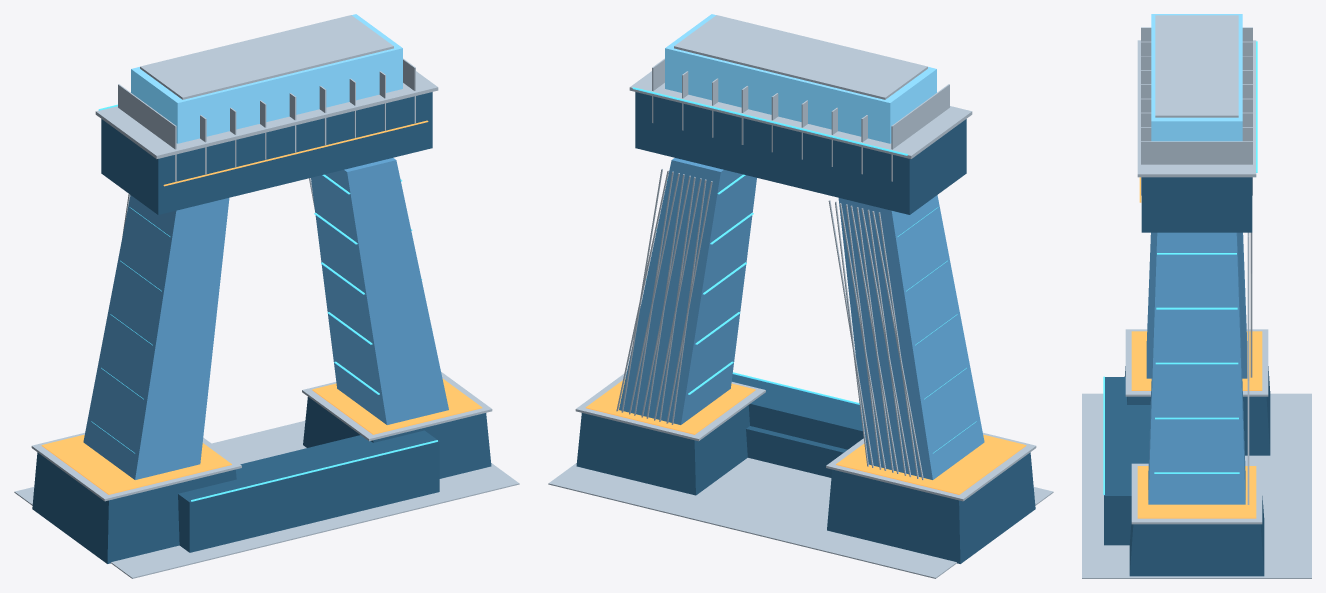
Rendered from cctv-hq.glb.
3 views of the same model, side by side, from view 1: azimuth 30°, elevation 25°; view 2: azimuth 150°, elevation 25°; view 3: azimuth 270°, elevation 25° (orthographic). The views are drawn at different scales.
Parts seen in each view (by area): view 1: cctv-hq-glassBlue, cctv-hq-glassDeep, cctv-hq-frame, cctv-hq-crown, cctv-hq-lightWarm, cctv-hq-lightCyan; view 2: cctv-hq-glassDeep, cctv-hq-glassBlue, cctv-hq-frame, cctv-hq-crown, cctv-hq-lightWarm, cctv-hq-lightCyan; view 3: cctv-hq-frame, cctv-hq-glassBlue, cctv-hq-glassDeep, cctv-hq-lightWarm, cctv-hq-crown, cctv-hq-lightCyan.
Boxes of the visible parts, bbox=[...] form: cctv-hq-glassBlue: bbox=[83, 158, 448, 479]; cctv-hq-glassDeep: bbox=[32, 92, 491, 563]; cctv-hq-frame: bbox=[14, 15, 519, 578]; cctv-hq-crown: bbox=[131, 14, 402, 143]; cctv-hq-lightWarm: bbox=[41, 120, 482, 494]; cctv-hq-lightCyan: bbox=[91, 104, 437, 501]; cctv-hq-glassDeep: bbox=[576, 92, 1035, 563]; cctv-hq-glassBlue: bbox=[619, 158, 984, 479]; cctv-hq-frame: bbox=[548, 15, 1053, 578]; cctv-hq-crown: bbox=[665, 14, 936, 143]; cctv-hq-lightWarm: bbox=[585, 378, 1026, 494]; cctv-hq-lightCyan: bbox=[632, 87, 976, 453]; cctv-hq-frame: bbox=[1082, 15, 1311, 578]; cctv-hq-glassBlue: bbox=[1146, 232, 1247, 504]; cctv-hq-glassDeep: bbox=[1104, 177, 1270, 576]; cctv-hq-lightWarm: bbox=[1131, 177, 1262, 518]; cctv-hq-crown: bbox=[1151, 14, 1242, 141]; cctv-hq-lightCyan: bbox=[1103, 41, 1257, 494].
Bounding box in the file's own units: 223 × 235 × 116.
